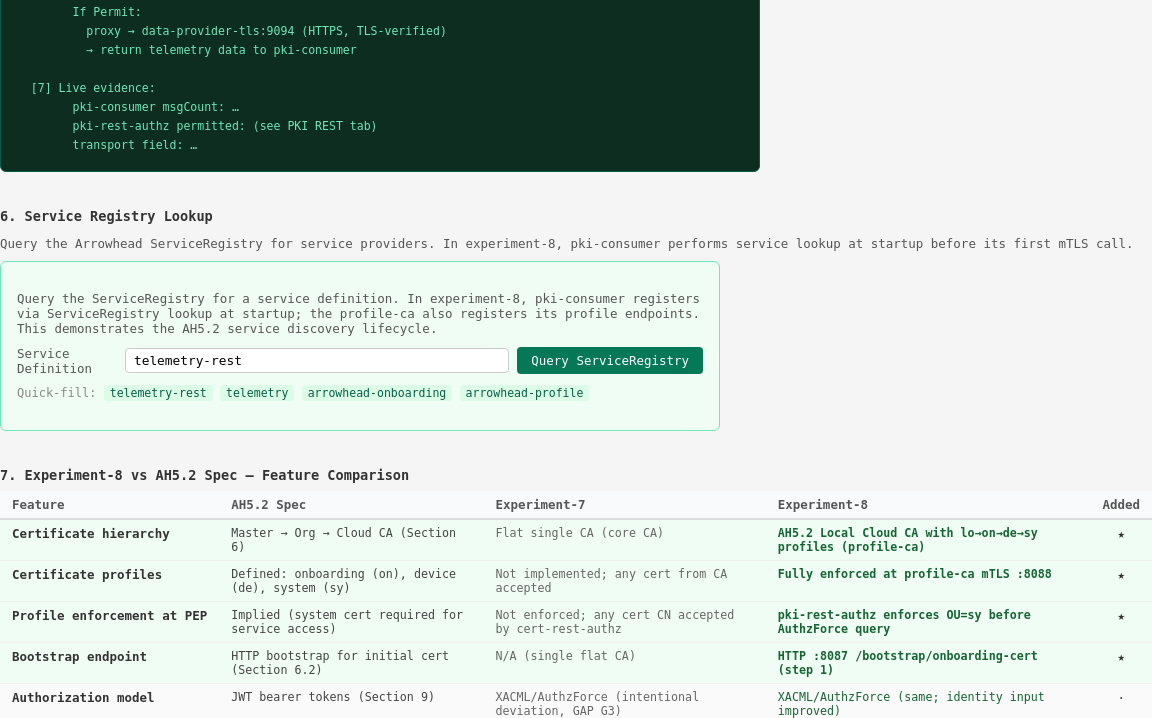
Test: PKIAddedValueView › shows service registry results
(page scrolled)
Click the button "Query ServiceRegistry": (610, 361) [517,347,703,374]
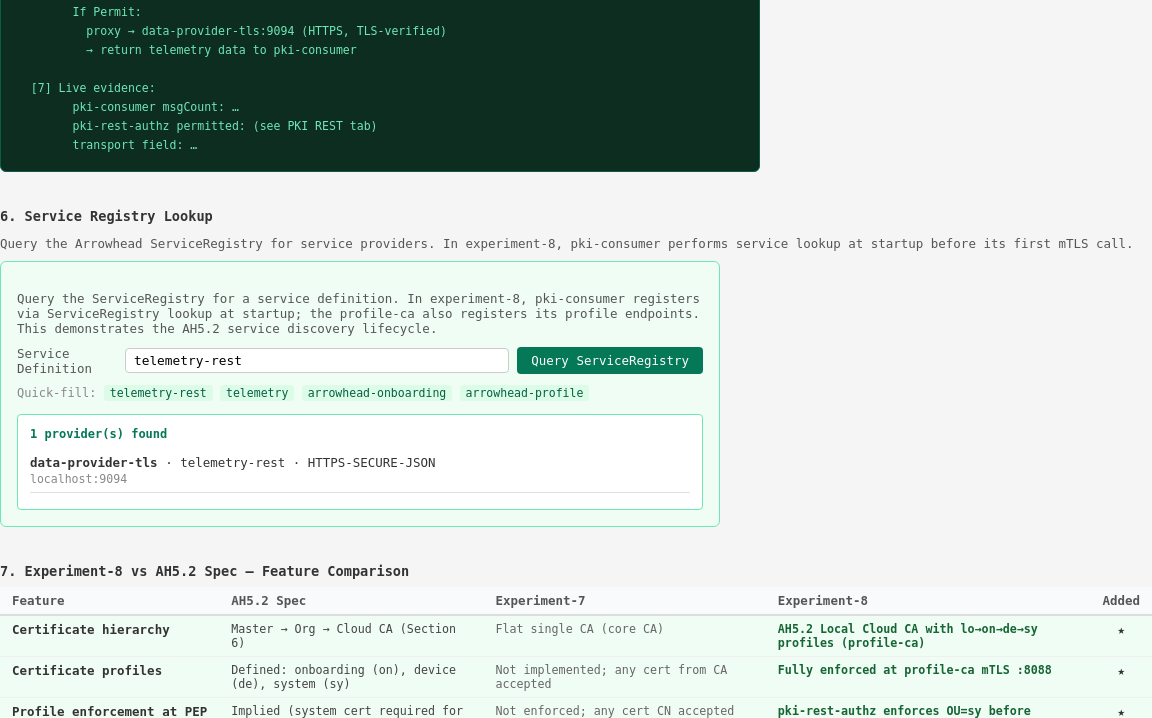
Now the text "data-provider-tls" is shown, box [30,455,158,470]
Now the text "1 provider(s) found" is shown, box [30,427,167,441]
